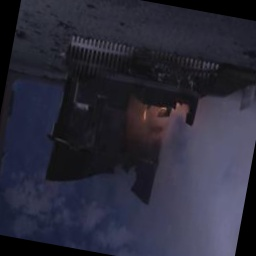smoke: (141, 134, 254, 256)
